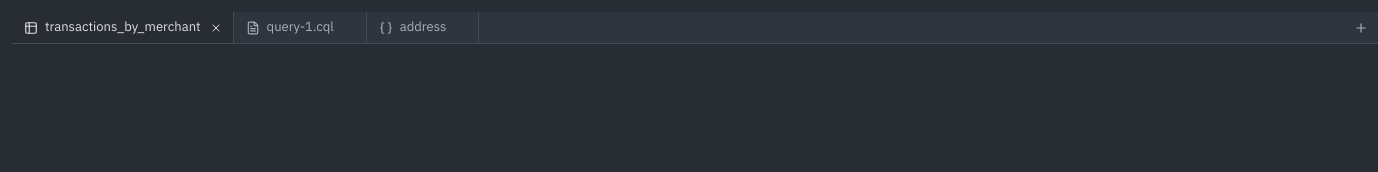
TabBar › context menu › opens on right-click for that tab without activating it
Right-click the tab "query-1.cql" at (290, 28), box [246,12,334,43]
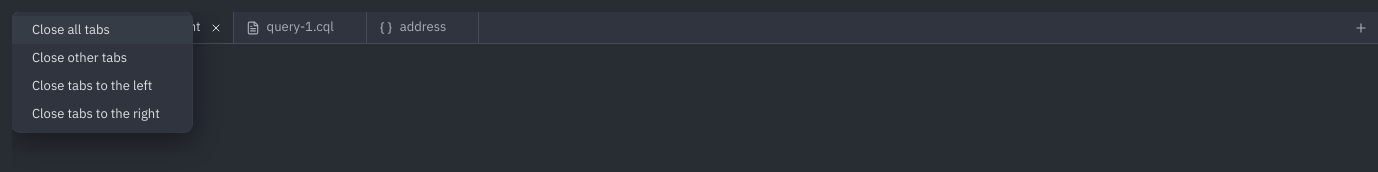
Expected: the menu items read "Close all tabs", "Close other tabs", "Close tabs to the left", "Close tabs to the right", in this order, [12,16,192,44]; [12,44,192,72]; [12,72,192,100]; [12,100,192,128]
